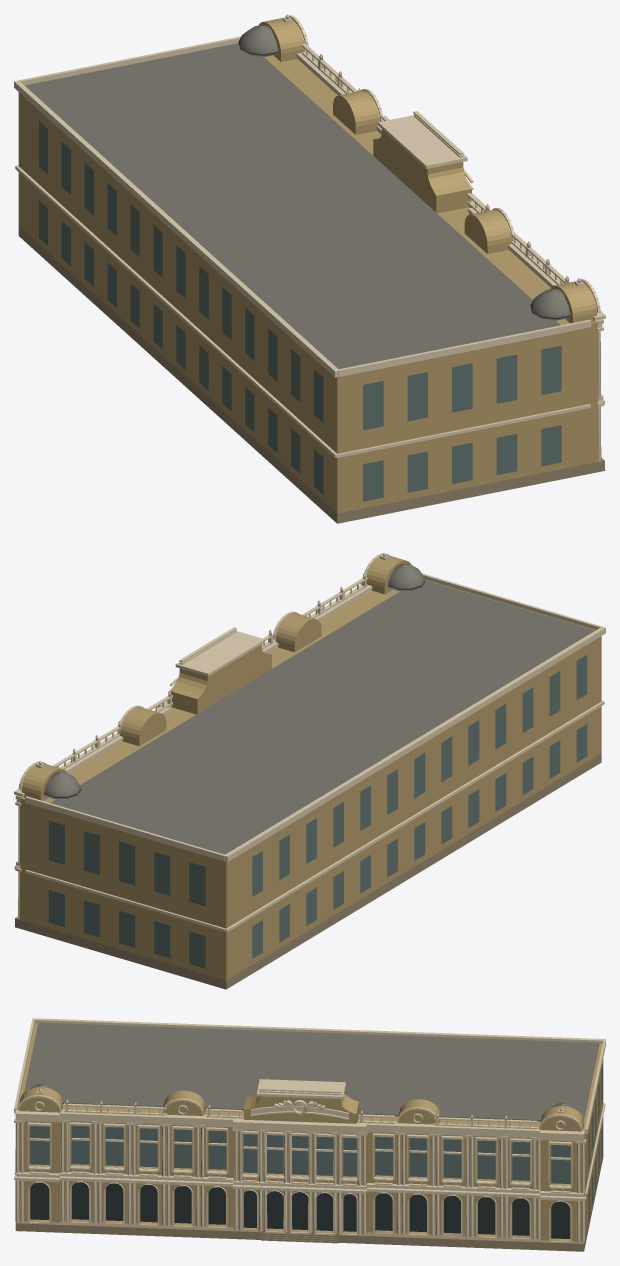
Rendered from edificio-de-correos-costa-rica-far.glb.
3 views of the same model, one above another, from view 1: azimuth 30°, elevation 25°; view 2: azimuth 150°, elevation 25°; view 3: azimuth 270°, elevation 25° (orthographic). The views are drawn at different scales.
Visible parts, largest first — view 1: edificio-de-correos-costa-rica-0-roof, edificio-de-correos-costa-rica-0-stone, edificio-de-correos-costa-rica-0-glass, edificio-de-correos-costa-rica-0-trim, edificio-de-correos-costa-rica-0-base; view 2: edificio-de-correos-costa-rica-0-stone, edificio-de-correos-costa-rica-0-roof, edificio-de-correos-costa-rica-0-glass, edificio-de-correos-costa-rica-0-trim, edificio-de-correos-costa-rica-0-base; view 3: edificio-de-correos-costa-rica-0-trim, edificio-de-correos-costa-rica-0-roof, edificio-de-correos-costa-rica-0-stone, edificio-de-correos-costa-rica-0-glass, edificio-de-correos-costa-rica-0-iron, edificio-de-correos-costa-rica-0-base.
Boxes of the visible parts, x1,y1,x2,y2 form: edificio-de-correos-costa-rica-0-roof: (24,25,570,369); edificio-de-correos-costa-rica-0-stone: (18,18,598,513); edificio-de-correos-costa-rica-0-glass: (39,121,561,501); edificio-de-correos-costa-rica-0-trim: (14,14,605,461); edificio-de-correos-costa-rica-0-base: (18,226,604,523); edificio-de-correos-costa-rica-0-stone: (20,555,601,980); edificio-de-correos-costa-rica-0-roof: (44,563,595,854); edificio-de-correos-costa-rica-0-glass: (48,655,587,968); edificio-de-correos-costa-rica-0-trim: (14,552,605,932); edificio-de-correos-costa-rica-0-base: (15,753,601,989); edificio-de-correos-costa-rica-0-trim: (14,1018,605,1242); edificio-de-correos-costa-rica-0-roof: (24,1022,599,1121); edificio-de-correos-costa-rica-0-stone: (17,1023,603,1241); edificio-de-correos-costa-rica-0-glass: (30,1064,602,1221); edificio-de-correos-costa-rica-0-iron: (30,1181,570,1238); edificio-de-correos-costa-rica-0-base: (15,1151,603,1251).
Bounding box in the file's own units: 37.03 × 22 × 79.25.
